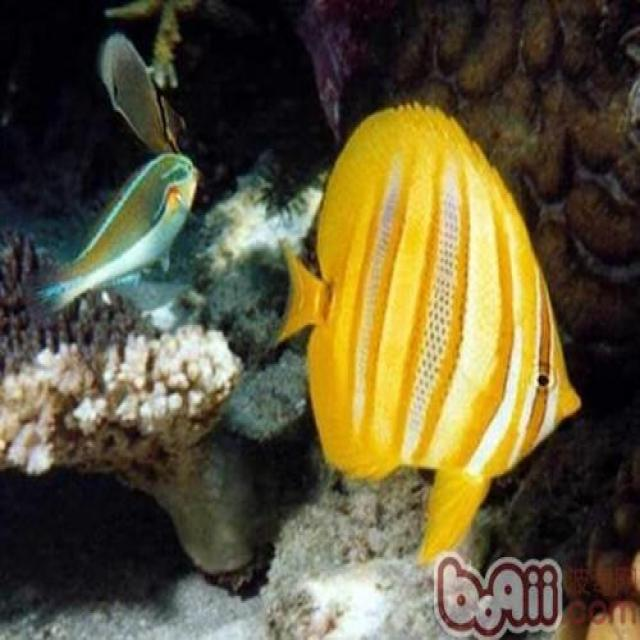ButterflyFish: (281, 98, 581, 577)
